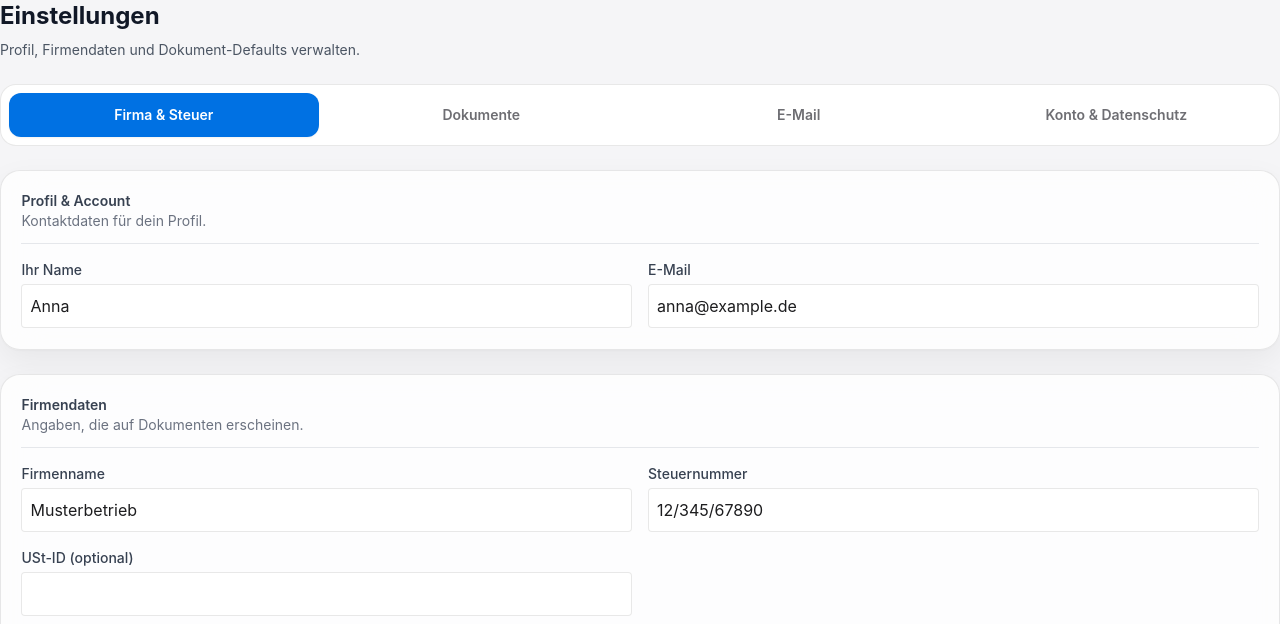
Scenario: SettingsView navigation › shows one understandable settings area at a time
This screenshot has width=1280, height=624.
Expected: the heading "Firmendaten" is shown, left=22, top=396, right=107, bottom=413
Expected: the text "E-Mail Versand" is not shown
Click the button "E-Mail" at (799, 115), box left=644, top=93, right=954, bottom=137
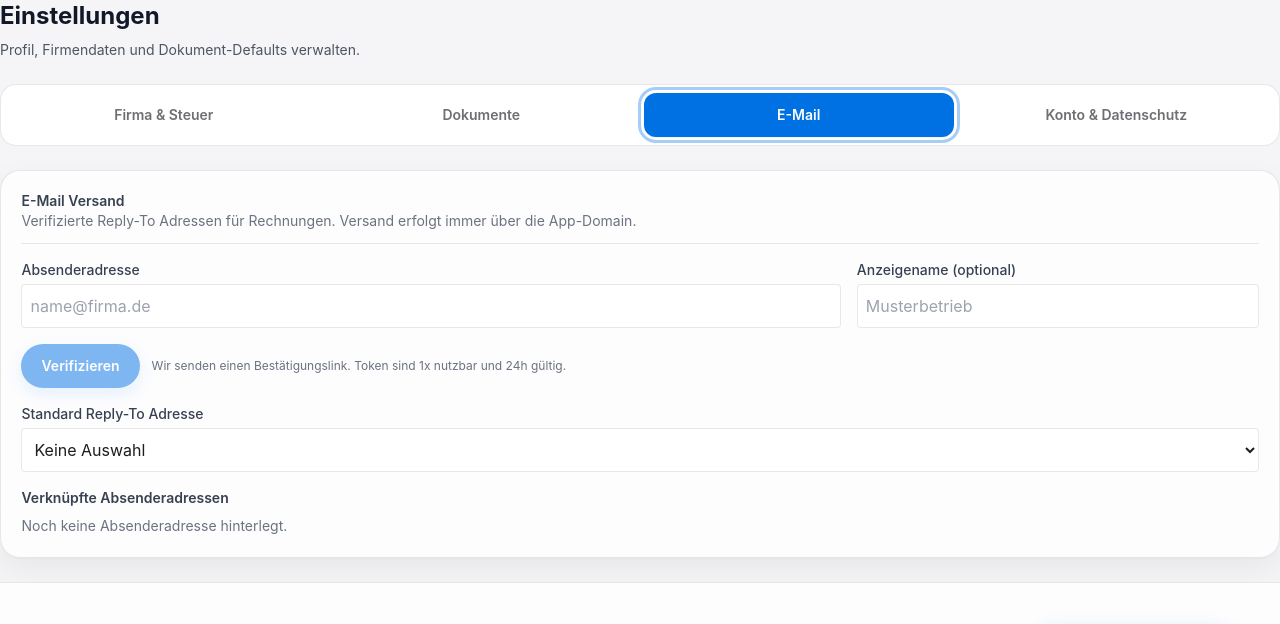
Result: the heading "E-Mail Versand" is shown at left=22, top=192, right=124, bottom=210
